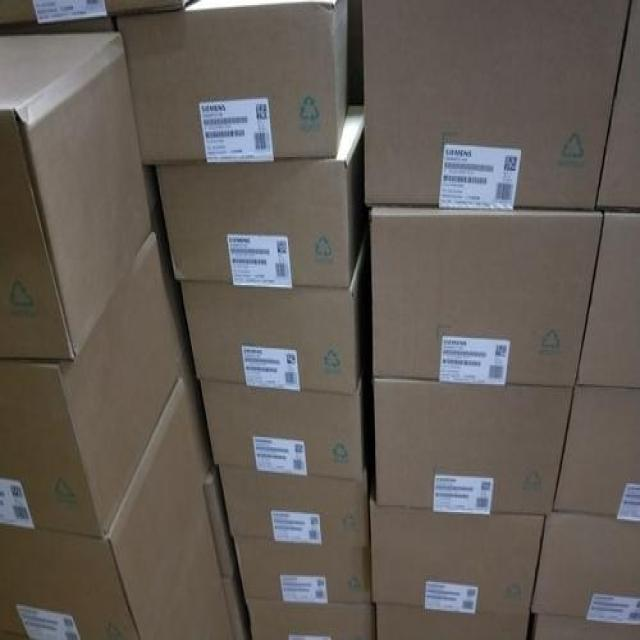box: (0, 379, 236, 638), (362, 1, 631, 210), (0, 230, 183, 535), (1, 34, 153, 361), (368, 208, 604, 386), (156, 104, 373, 287), (113, 1, 350, 162), (181, 219, 372, 392), (374, 383, 575, 515), (368, 468, 545, 615), (198, 350, 371, 479), (219, 463, 368, 547), (575, 208, 639, 389), (532, 514, 638, 622), (552, 386, 638, 518), (596, 0, 639, 210), (233, 536, 370, 599), (154, 200, 193, 379), (372, 604, 532, 638), (245, 597, 374, 638), (0, 0, 194, 26), (183, 356, 216, 481), (205, 463, 238, 577), (530, 613, 639, 638), (223, 557, 253, 638), (0, 15, 116, 34), (147, 163, 161, 229)
